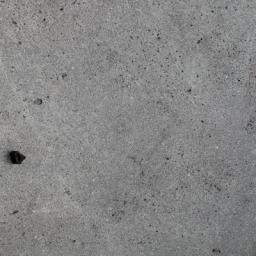FOD: (8, 147, 29, 169)
